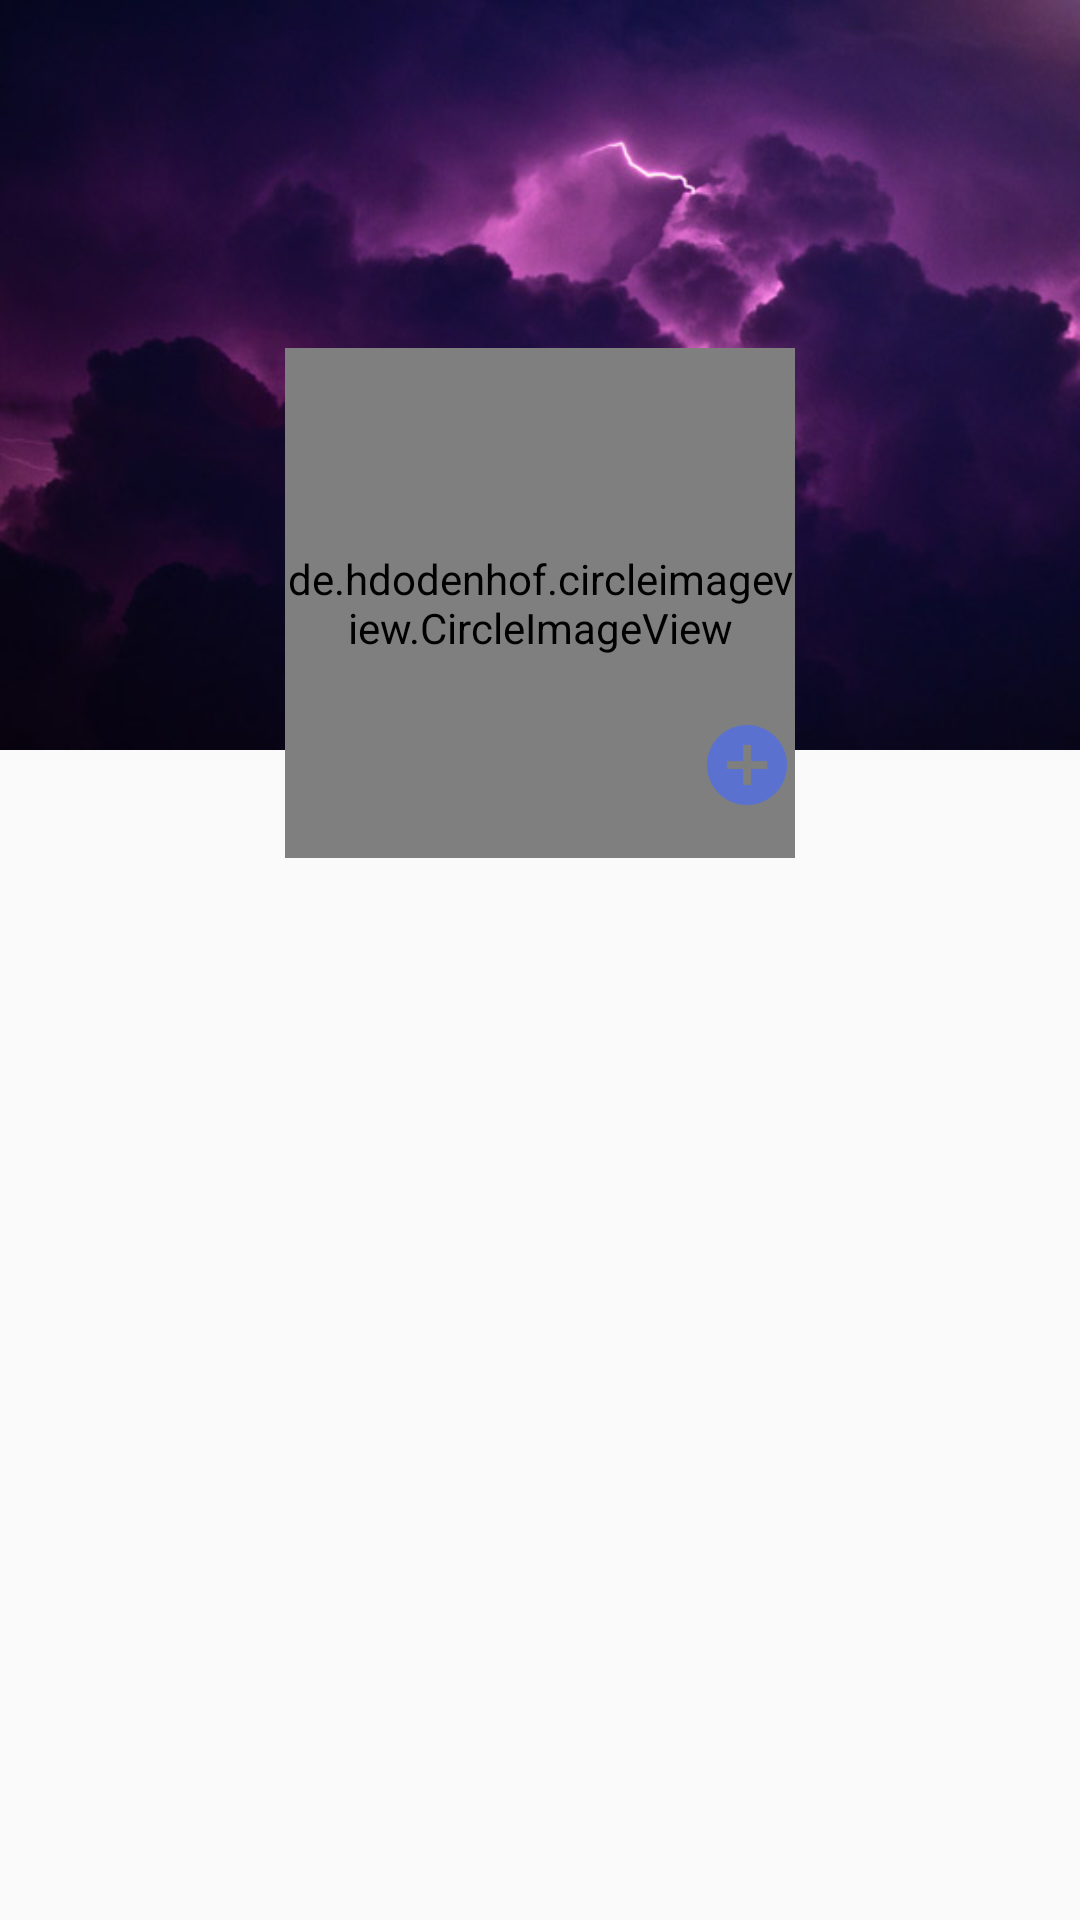

Point at icon controls on the screen. Image size 1080px x 1920px, points as (x=x, y=y).
add: (x=747, y=765)
